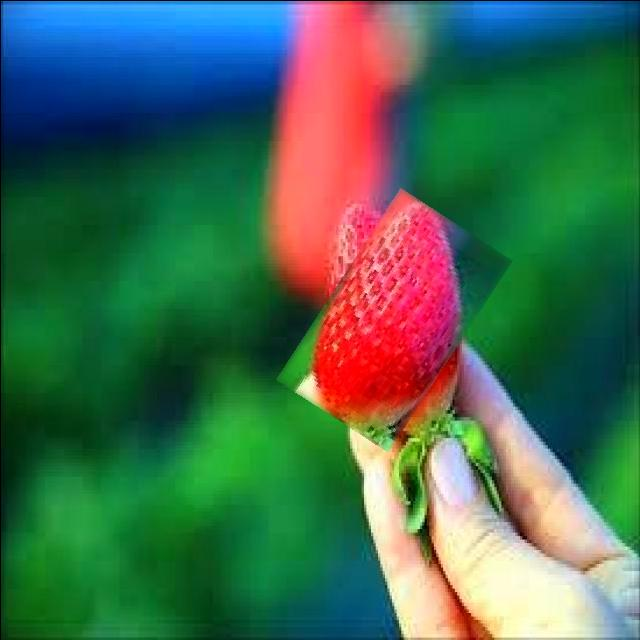strawberry: (300, 195, 487, 442)
